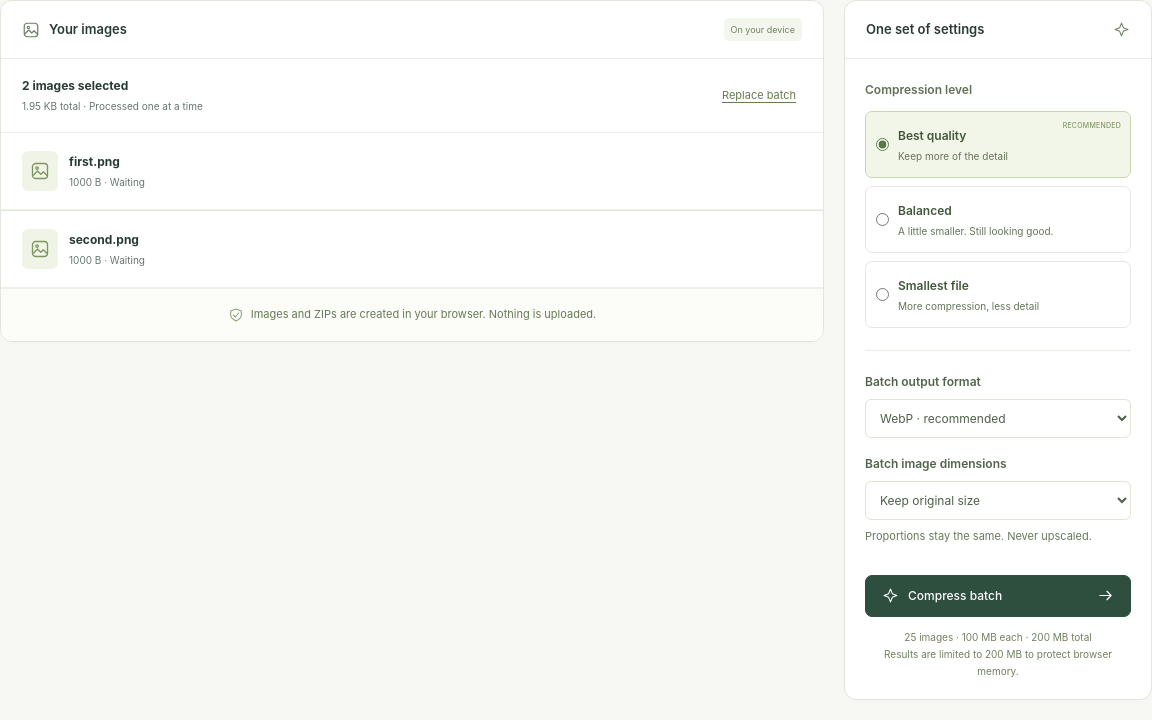
Test: shows actual results, preserves failures, and creates a downloadable ZIP of successes
The image size is (1152, 720).
Earlier steps of the test are not shown.
Later steps or results of the test are not shown.
Step 1. Click the button "Compress batch" → [998, 596], box x1=865 y1=575 x2=1131 y2=617
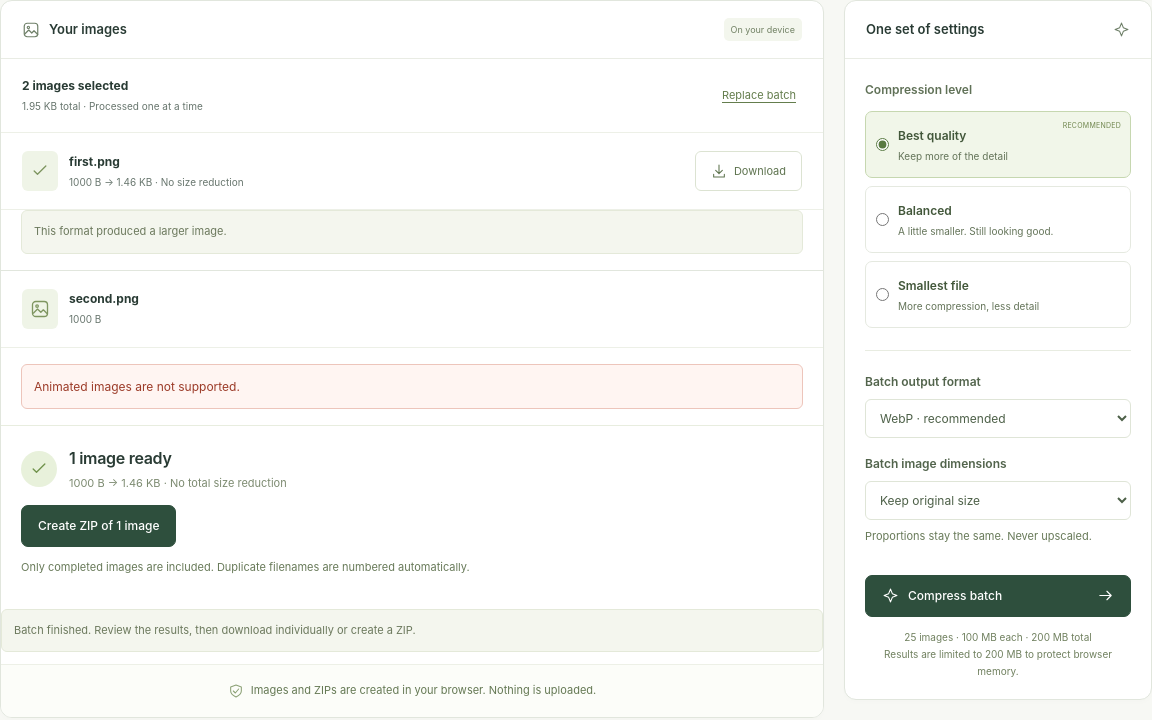
Check: the heading "1 image ready" is shown, box x1=69 y1=448 x2=172 y2=468
Check: the text "Animated images are not supported." is shown, box x1=21 y1=364 x2=803 y2=409
Check: the text "This format produced a larger image." is shown, box x1=21 y1=210 x2=803 y2=254
